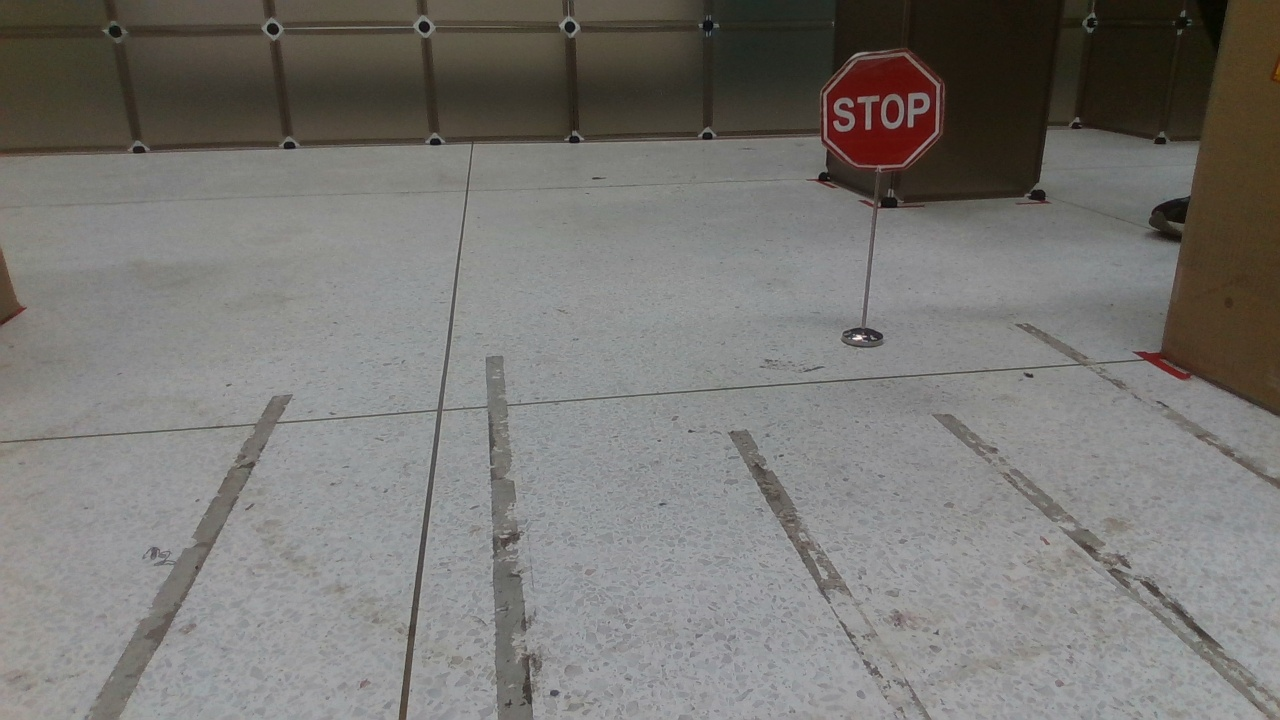Stop sign: (820, 40, 943, 171)
